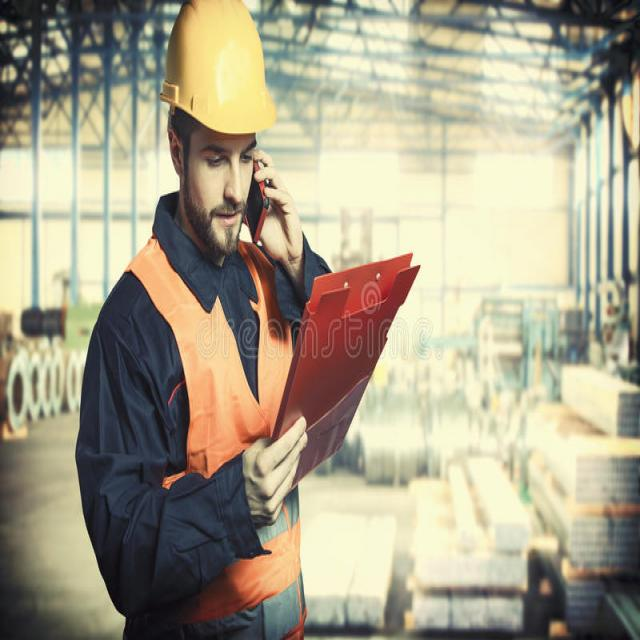Reflective-Jacket: (124, 218, 314, 638)
Safety-Helmet: (158, 1, 278, 140)
